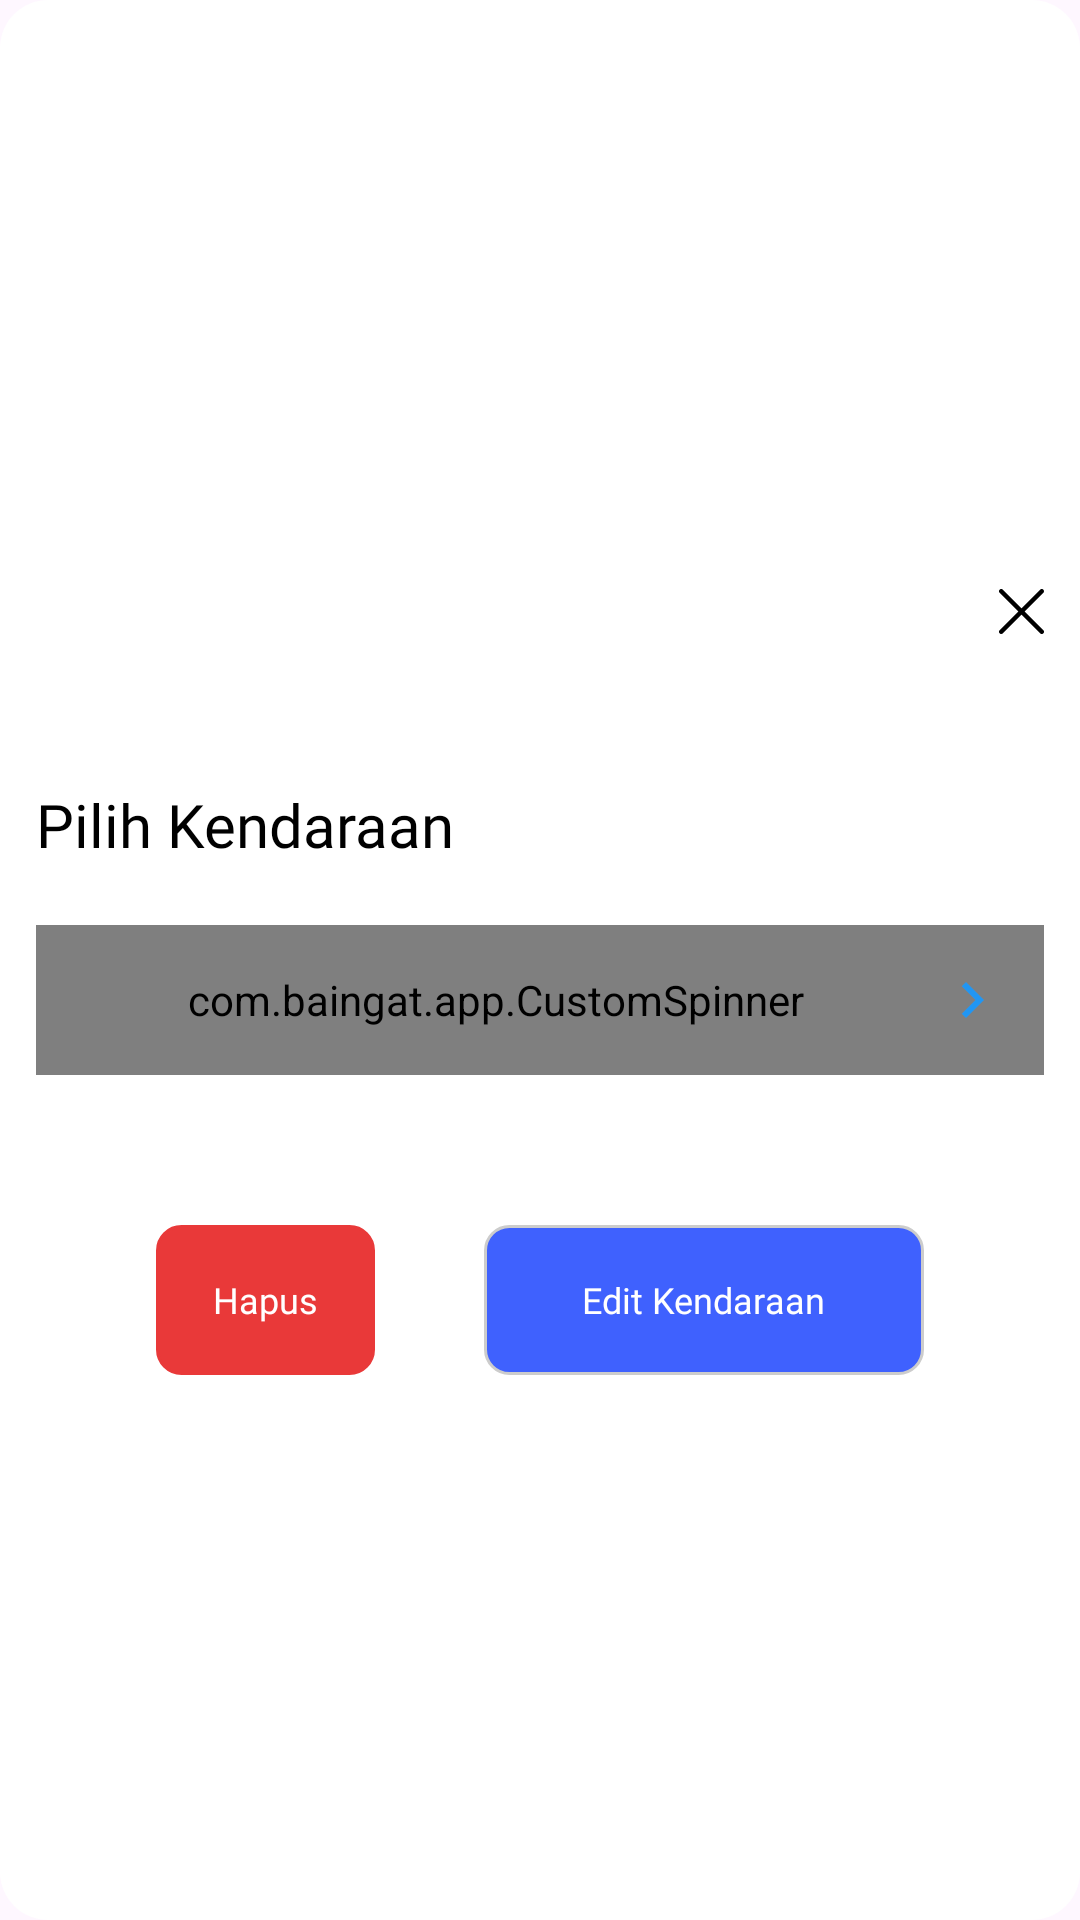

Named icons in this screenshot (1080x1920) and their bounding boxes, [x1=x1, y1=y1, x2=x2, y2=y2]:
batal: [x1=999, y1=589, x2=1044, y2=634]
